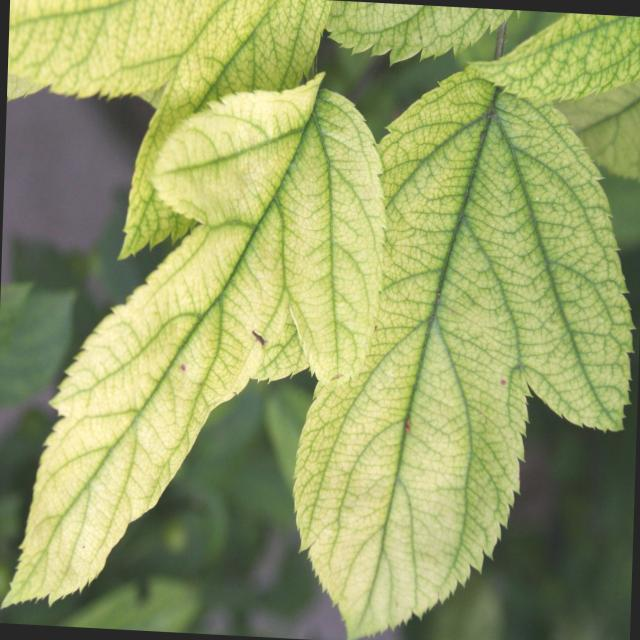Chlorosis: (7, 2, 622, 614)
